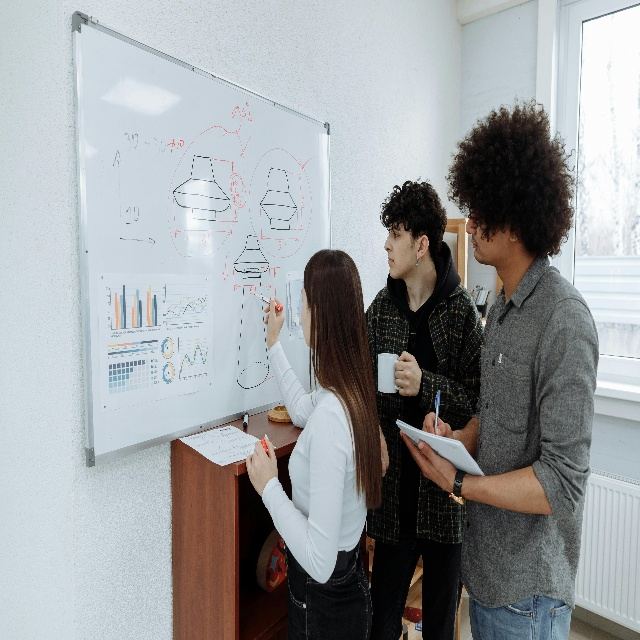Sin_guantes: (399, 429, 456, 494), (246, 434, 278, 498), (395, 349, 422, 398), (263, 295, 285, 344), (422, 409, 454, 440), (378, 423, 390, 478)
